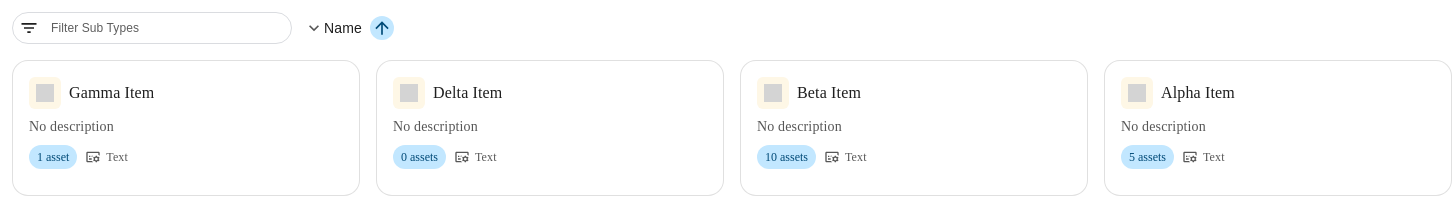
Test case: SubTypesTab › search functionality › should show filter dropdown on input focus
Click the field with placeholder "Filter Sub Types": x=167, y=28 [47,15,287,41]
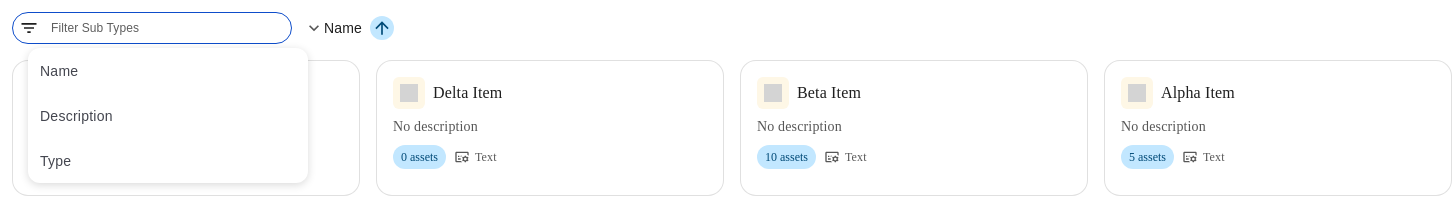
expect the menu item "Name" is shown: met, box [40,62,78,78]
expect the menu item "Description" is shown: met, box [40,108,113,124]
expect the menu item "Type" is shown: met, box [40,152,71,168]
